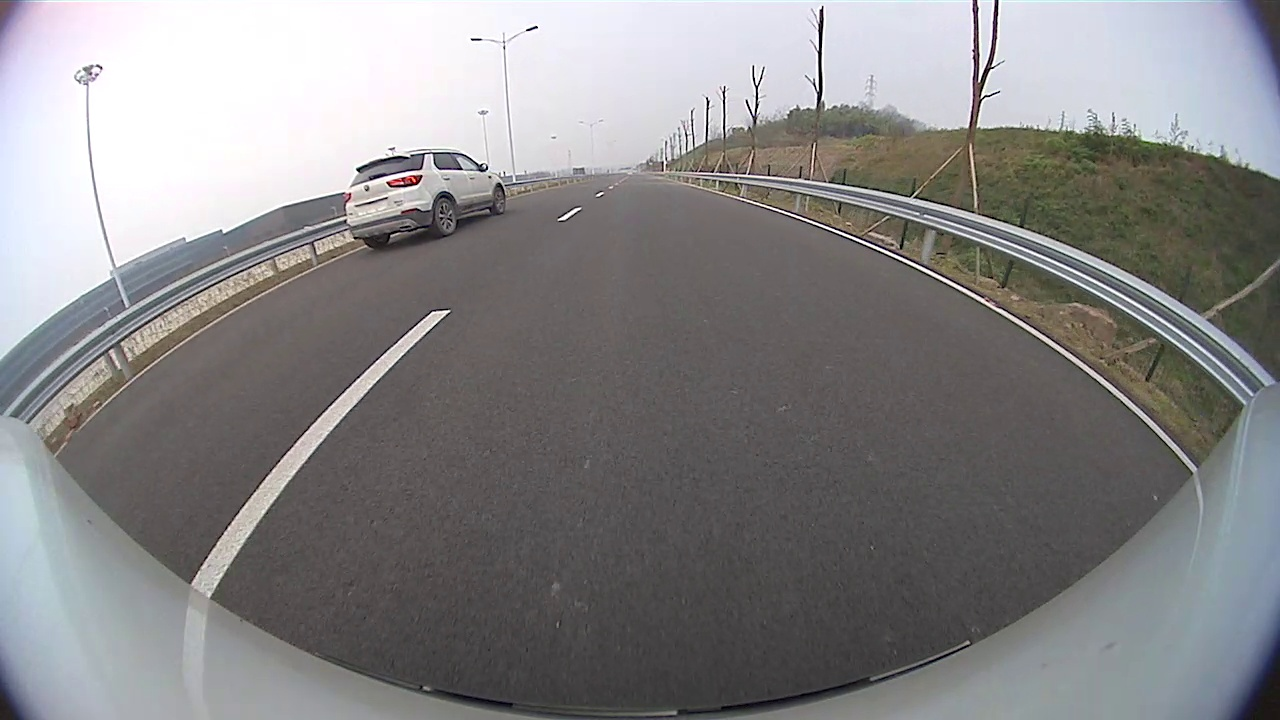car: (343, 148, 507, 252)
front: (492, 187, 507, 215)
rear: (435, 197, 458, 236)
